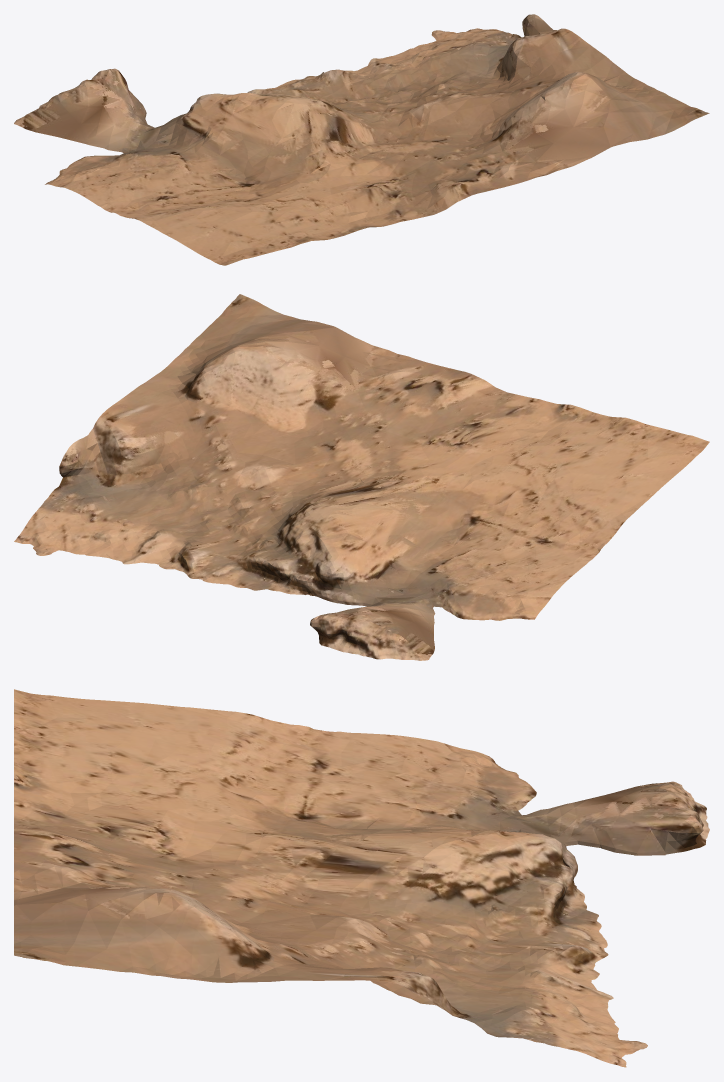
The picture shows the model from 3 angles, top to bottom: view 1: azimuth 30°, elevation 25°; view 2: azimuth 150°, elevation 25°; view 3: azimuth 270°, elevation 25°; orthographic projection. The views are drawn at different scales.
Bounding box in the file's own units: 1.04 × 0.1919 × 0.9867.
2 materials, 2 textured.
